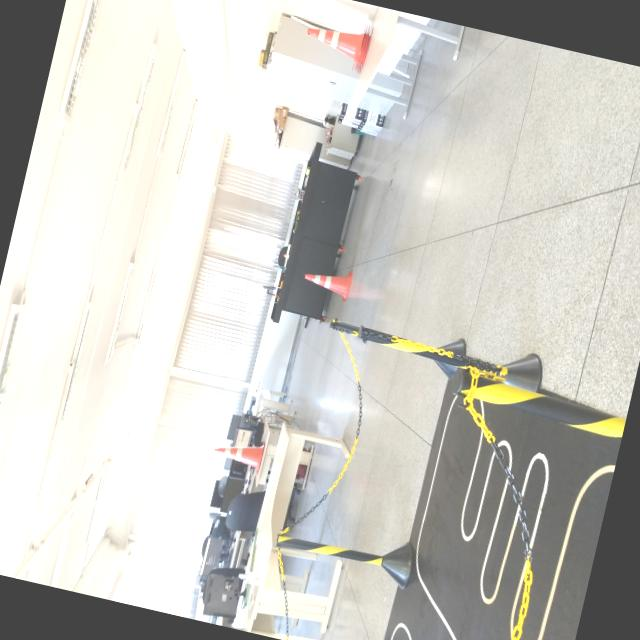cone: (300, 10, 376, 69), (294, 252, 362, 312), (210, 426, 268, 480)
